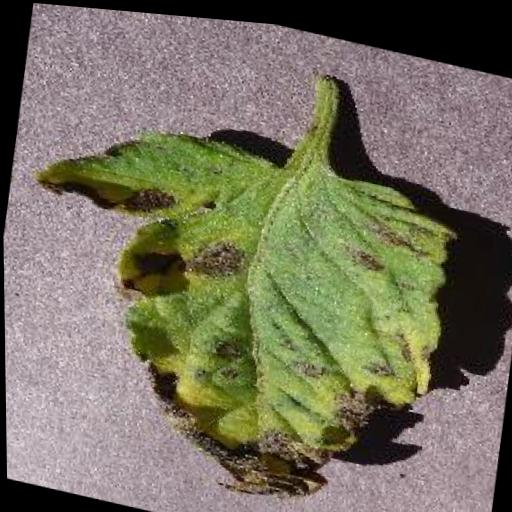Early Blight: (1, 89, 469, 512)
